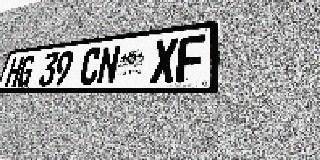3: (37, 52, 60, 86)
9: (52, 50, 75, 86)
C: (78, 47, 103, 85)
F: (176, 34, 205, 83)
G: (15, 55, 37, 87)
H: (4, 56, 25, 87)
N: (96, 45, 121, 85)
X: (150, 38, 179, 83)
